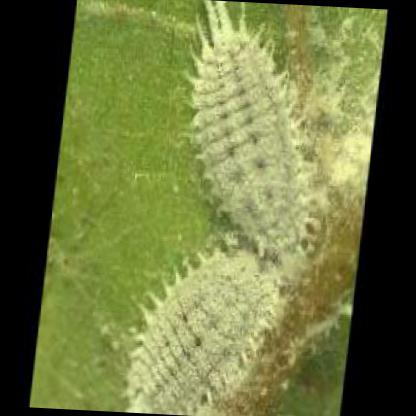mealy bug: (194, 3, 312, 258), (131, 255, 274, 413)
